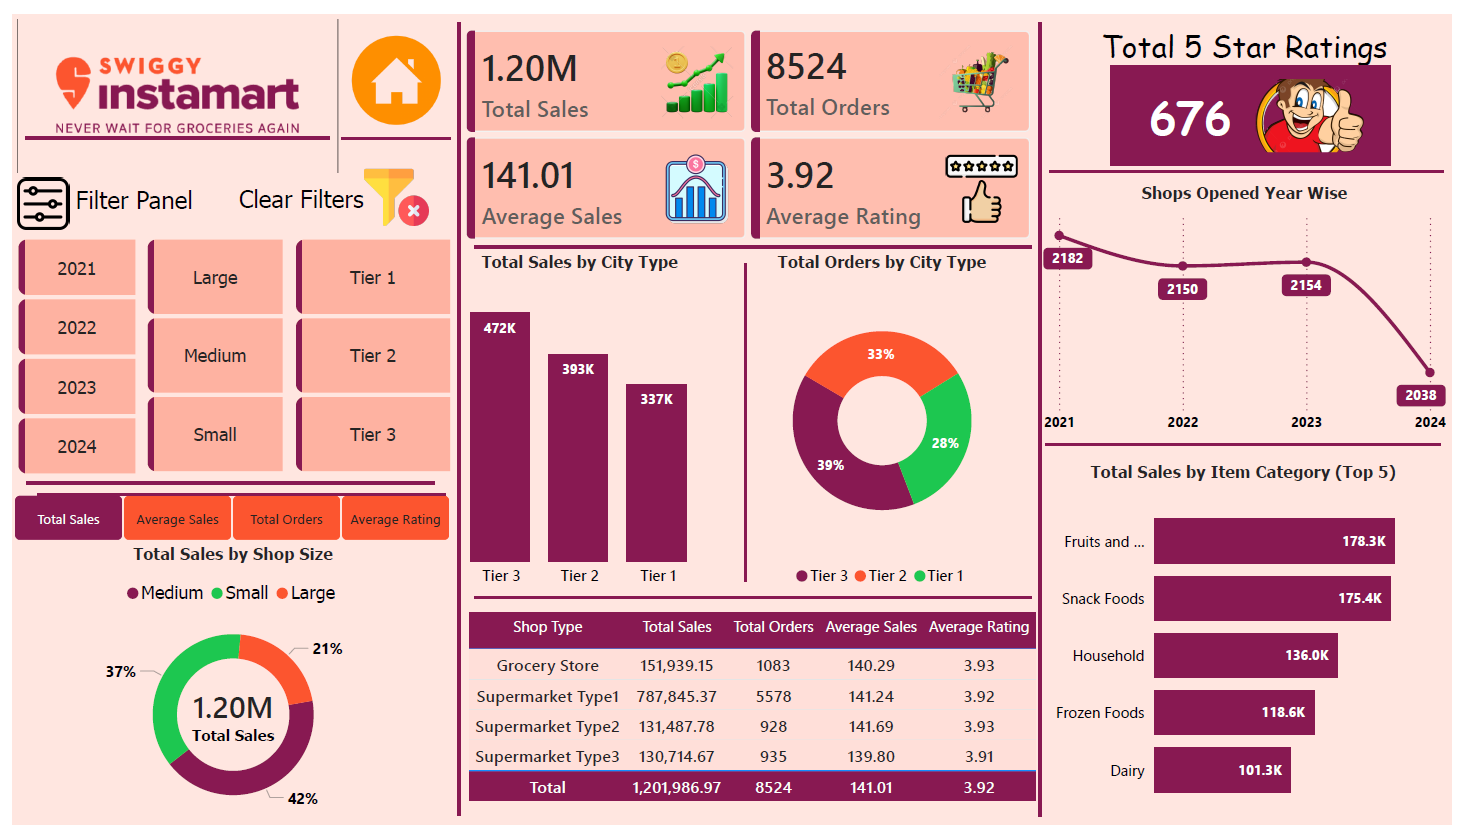

The dashboard page shown, as its layout file describes it:
{"tool":"powerbi","page":{"name":"Online Grocery Store","canvas":[1280,720],"ordinal":0},"visuals":[{"type":"cardVisual","fields":{"Data":["All Measures.Total Sales","All Measures.Total Orders","All Measures.Average Sales","All Measures.Average Rating"]},"box":[393.8,3.7,520.9,206.7],"z":0},{"type":"image","box":[4.1,4.1,285.4,135.8],"z":1000},{"type":"clusteredColumnChart","fields":{"Category":["Grocery Shop.City Type"],"Y":["All Measures.Total Sales"]},"box":[374.2,210.3,260.5,308.2],"z":2000},{"type":"donutChart","fields":{"Category":["Grocery Shop.City Type"],"Y":["All Measures.Total Orders"]},"box":[643.2,210.3,260.5,308.2],"z":3000},{"type":"clusteredBarChart","title":"Total Sales by Item Category (Top 5)","fields":{"Y":["All Measures.Total Sales"],"Category":["Grocery Shop.Item Category"]},"box":[912.2,397.4,365.6,320.4],"z":4000},{"type":"lineChart","title":"Shops Opened Year Wise","fields":{"Category":["Grocery Shop.Shop Opening Year"],"Y":["All Measures.Total Orders"]},"box":[912.2,149.2,368.1,231.1],"z":5000},{"type":"tableEx","fields":{"Values":["Grocery Shop.Shop Type","All Measures.Total Sales","All Measures.Total Orders","All Measures.Average Sales","All Measures.Average Rating"]},"box":[399.9,526.8,522.1,193.2],"z":6000},{"type":"advancedSlicerVisual","fields":{"Values":["Dynamic Measure.Dynamic Measure"]},"box":[2.4,428,387.6,39.1],"z":7000},{"type":"donutChart","fields":{"Y":["All Measures.Total Sales"],"Category":["Grocery Shop.Shop Size"]},"box":[2.4,469.6,387.6,250.7],"z":8000},{"type":"cardVisual","fields":{"Data":["All Measures.Total Sales"]},"box":[123,582.1,145.5,83.2],"z":9000},{"type":"advancedSlicerVisual","fields":{"Values":["Grocery Shop.Shop Size"]},"box":[115,195,129.6,217.7],"z":10000},{"type":"advancedSlicerVisual","fields":{"Values":["Grocery Shop.City Type"]},"box":[247,195,146.7,217.7],"z":11000},{"type":"advancedSlicerVisual","fields":{"Values":["Grocery Shop.Shop Opening Year"]},"box":[0,195,113.7,217.7],"z":12000},{"type":"textbox","box":[50.1,147,116.2,39.1],"z":13000},{"type":"image","box":[3.7,140,46.5,55],"z":14000},{"type":"textbox","box":[193.2,146,127.2,39.1],"z":15000},{"type":"image","box":[308.2,134,66,57.5],"z":16000},{"type":"textbox","box":[961.1,3.7,270.2,50.1],"z":17000},{"type":"cardVisual","fields":{"Data":["All Measures.5 Star Rating"]},"box":[972.2,40.4,259.2,99],"z":18000},{"type":"shape","box":[11,95,271.5,29.3],"z":19000},{"type":"shape","box":[12.2,402,363.2,29.3],"z":20000},{"type":"shape","box":[919,368,351,29.3],"z":21000},{"type":"shape","box":[22.2,412,363.2,29.3],"z":22000},{"type":"shape","box":[922,124.7,351,29.3],"z":23000},{"type":"shape","box":[411,503.8,495.2,29.3],"z":24000},{"type":"shape","box":[411,192,495.2,29.3],"z":25000},{"type":"shape","box":[380,7,34.2,705],"z":26000},{"type":"shape","box":[897,7,34.2,705.6],"z":27000},{"type":"shape","box":[634.7,221.3,34.2,282.5],"z":28000},{"type":"image","box":[292.3,7.3,97.8,100.3],"z":29000},{"type":"shape","box":[292.3,95.4,96.6,29.3],"z":30000}]}

Visuals, with their boxes in screenshot pixels (x1, y1, x2, y2), scaled from the page's 1280x720 canvas onto the 1462x837 screenshot:
cardVisual - All Measures.Total Sales x All Measures.Total Orders: region(450, 4, 1045, 245)
image: region(5, 5, 331, 163)
clusteredColumnChart - Grocery Shop.City Type x All Measures.Total Sales: region(427, 244, 725, 603)
donutChart - Grocery Shop.City Type x All Measures.Total Orders: region(735, 244, 1032, 603)
"Total Sales by Item Category (Top 5)" clusteredBarChart: region(1042, 462, 1459, 834)
"Shops Opened Year Wise" lineChart: region(1042, 173, 1461, 442)
tableEx - Grocery Shop.Shop Type x All Measures.Total Sales: region(457, 612, 1053, 836)
advancedSlicerVisual - Dynamic Measure.Dynamic Measure: region(3, 498, 445, 543)
donutChart - All Measures.Total Sales x Grocery Shop.Shop Size: region(3, 546, 445, 836)
cardVisual - All Measures.Total Sales: region(140, 677, 307, 773)
advancedSlicerVisual - Grocery Shop.Shop Size: region(131, 227, 279, 480)
advancedSlicerVisual - Grocery Shop.City Type: region(282, 227, 450, 480)
advancedSlicerVisual - Grocery Shop.Shop Opening Year: region(0, 227, 130, 480)
textbox: region(57, 171, 190, 216)
image: region(4, 163, 57, 227)
textbox: region(221, 170, 366, 215)
image: region(352, 156, 427, 223)
textbox: region(1098, 4, 1406, 63)
cardVisual - All Measures.5 Star Rating: region(1110, 47, 1406, 162)
shape: region(13, 110, 323, 144)
shape: region(14, 467, 429, 501)
shape: region(1050, 428, 1451, 462)
shape: region(25, 479, 440, 513)
shape: region(1053, 145, 1454, 179)
shape: region(469, 586, 1035, 620)
shape: region(469, 223, 1035, 257)
shape: region(434, 8, 473, 828)
shape: region(1025, 8, 1064, 828)
shape: region(725, 257, 764, 586)
image: region(334, 8, 446, 125)
shape: region(334, 111, 444, 145)
